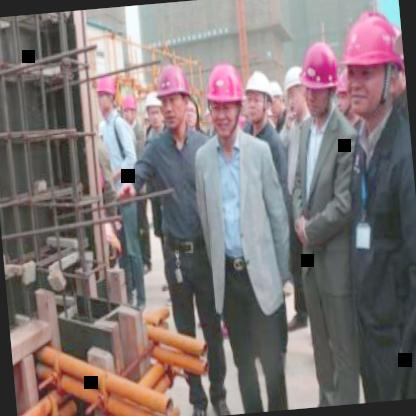helmet: (338, 6, 408, 124), (200, 58, 249, 140), (298, 38, 342, 121), (154, 60, 196, 136), (242, 66, 276, 126), (280, 62, 307, 119), (94, 74, 122, 120), (266, 75, 287, 126), (141, 89, 164, 132), (120, 90, 139, 132)
